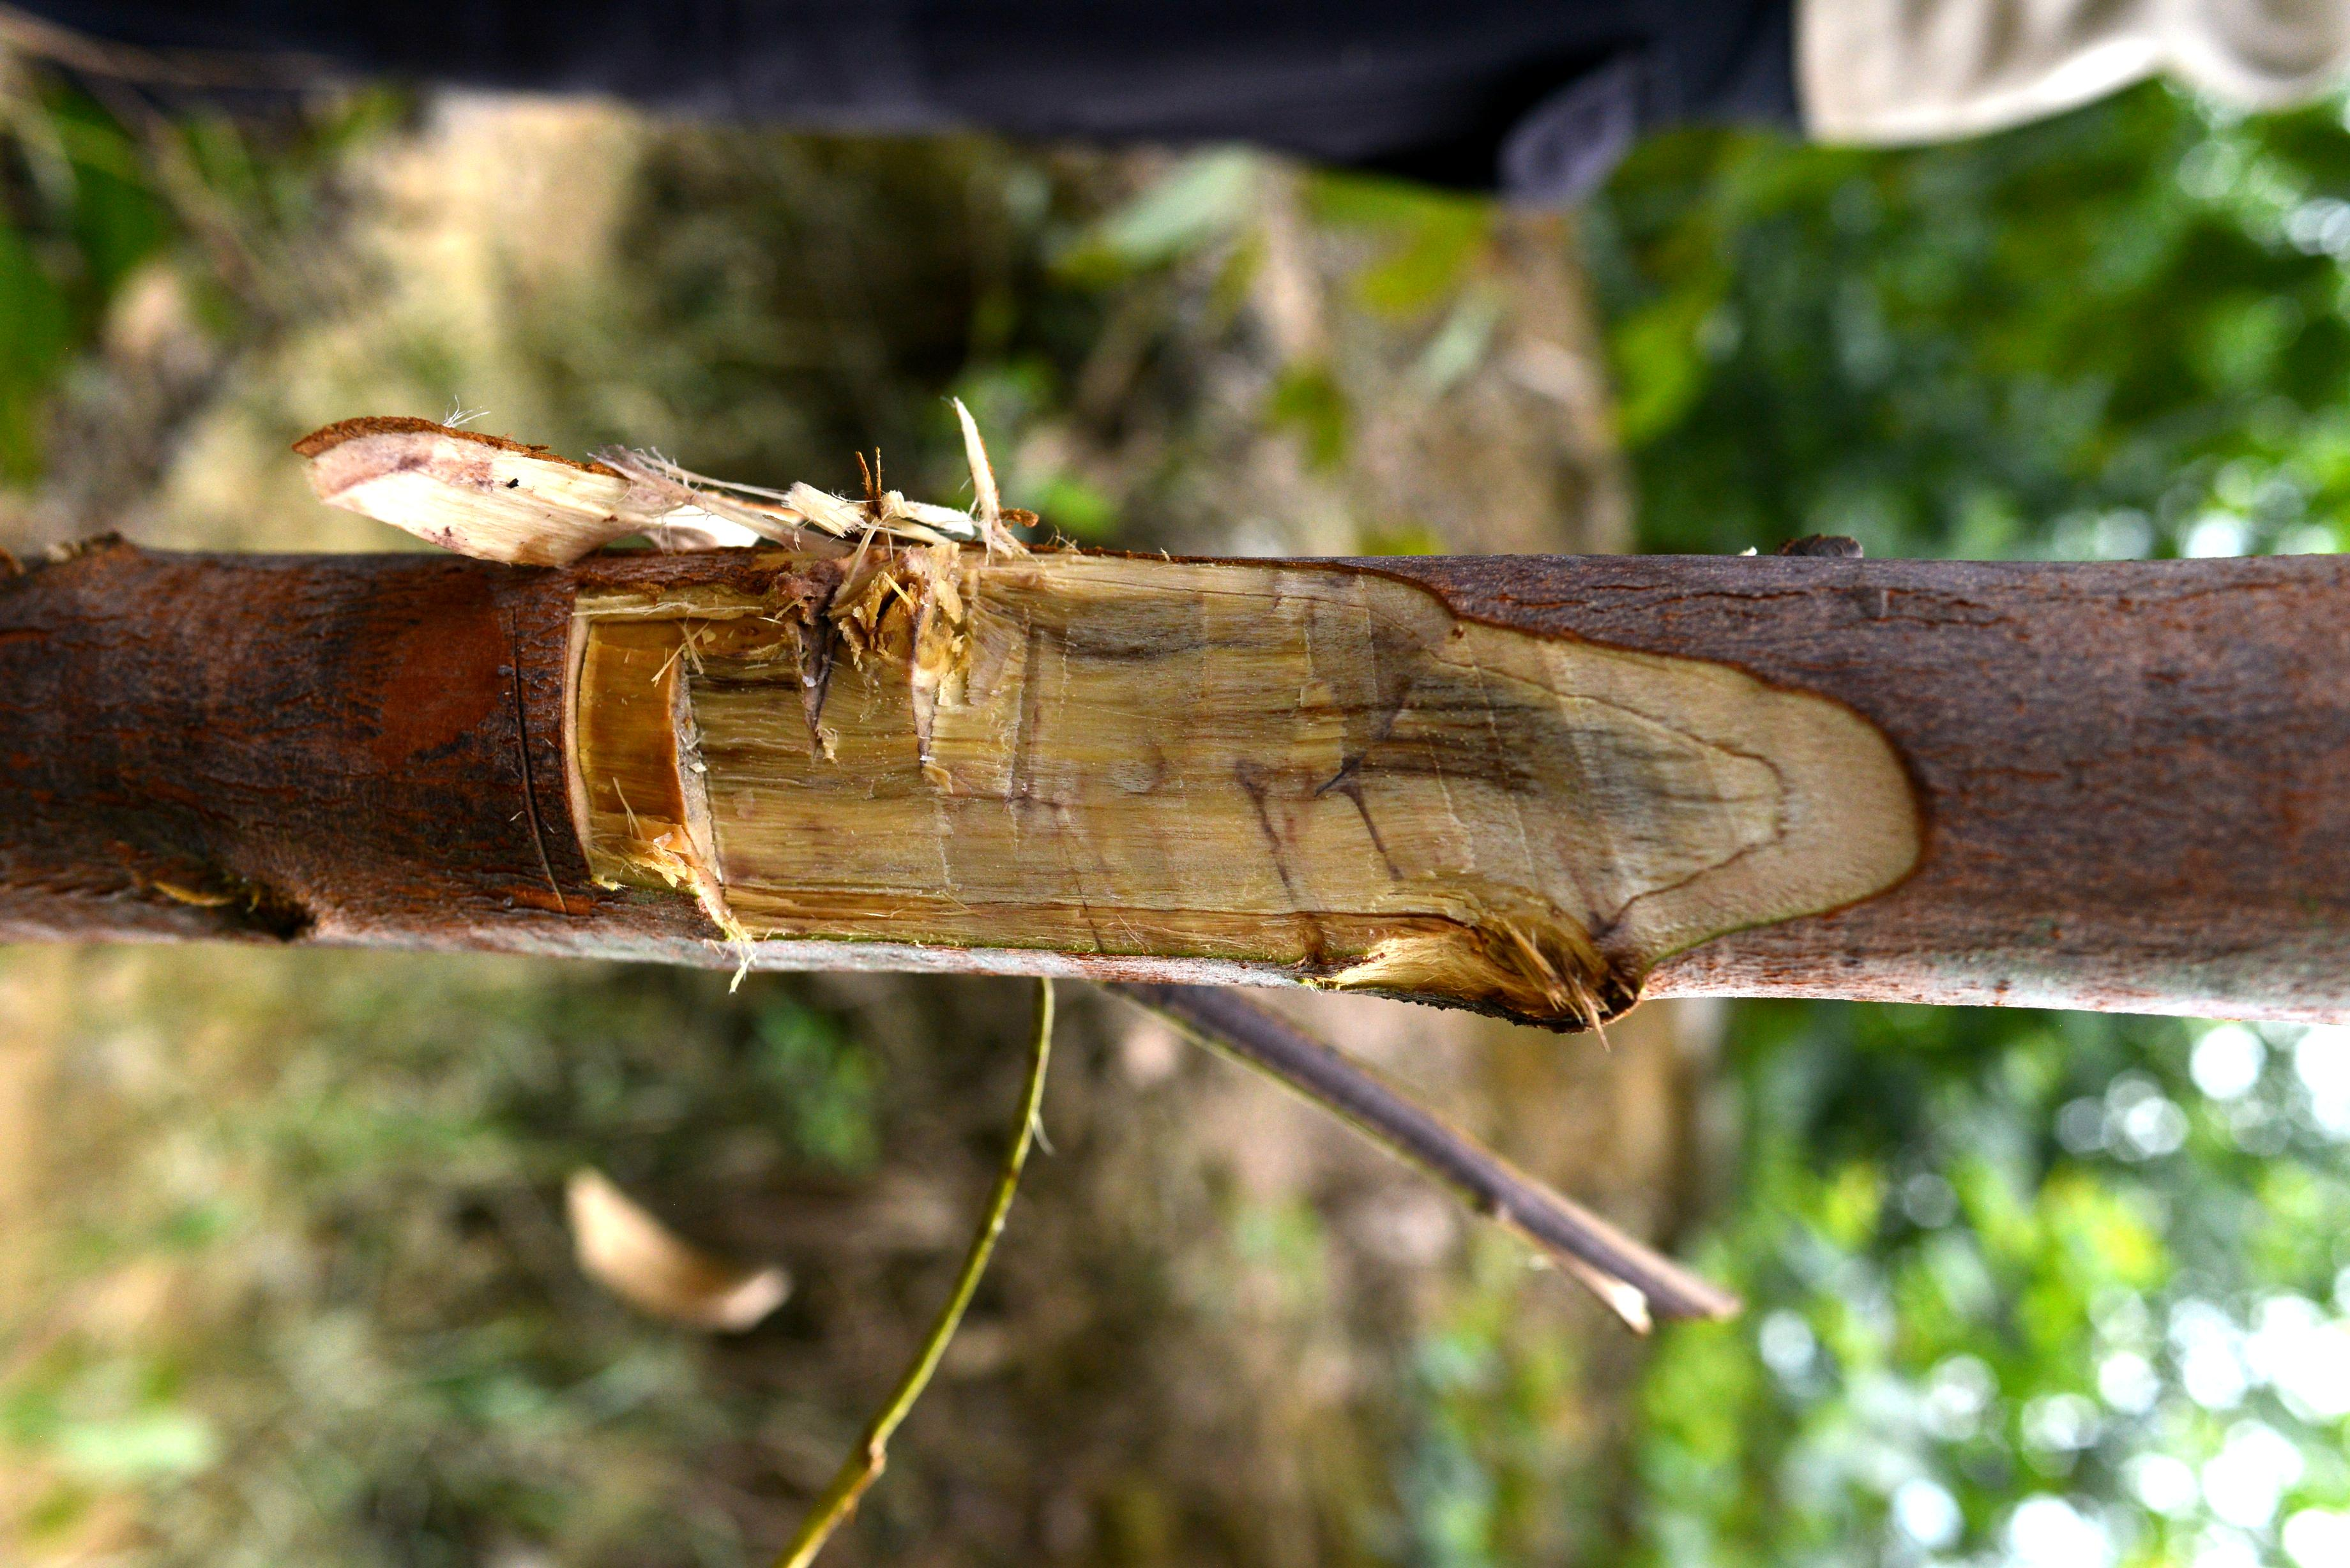Ralstonia: (595, 549, 2270, 957)
